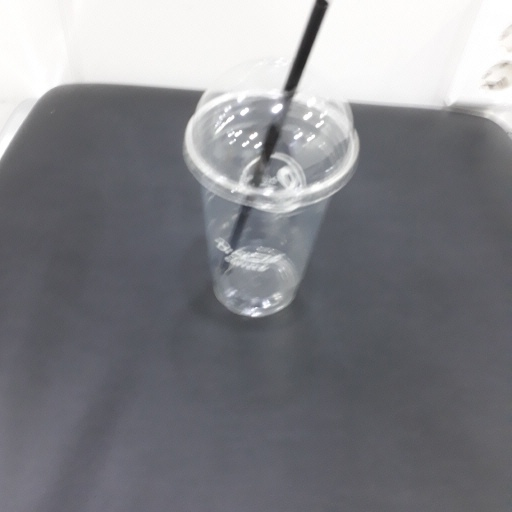Plastic_2: (178, 1, 363, 318)
